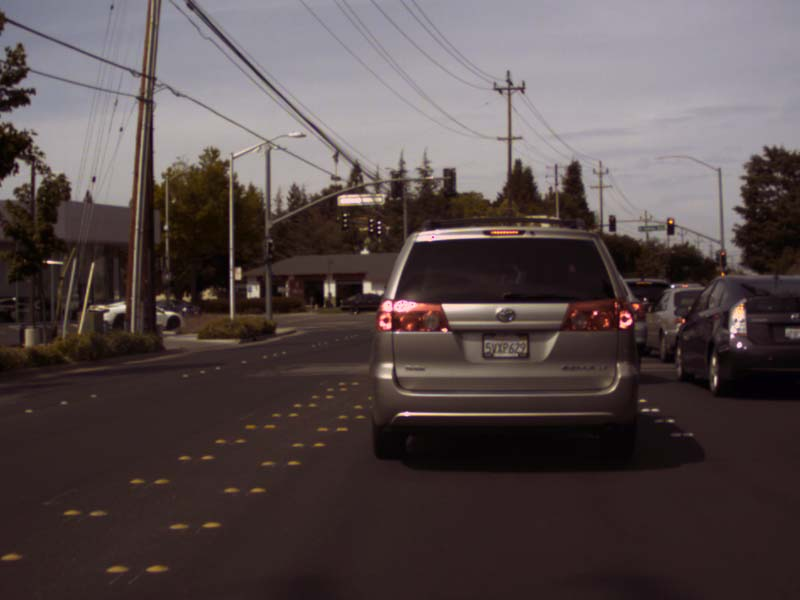Red: (667, 218, 674, 234), (609, 215, 614, 231), (720, 251, 725, 264)
